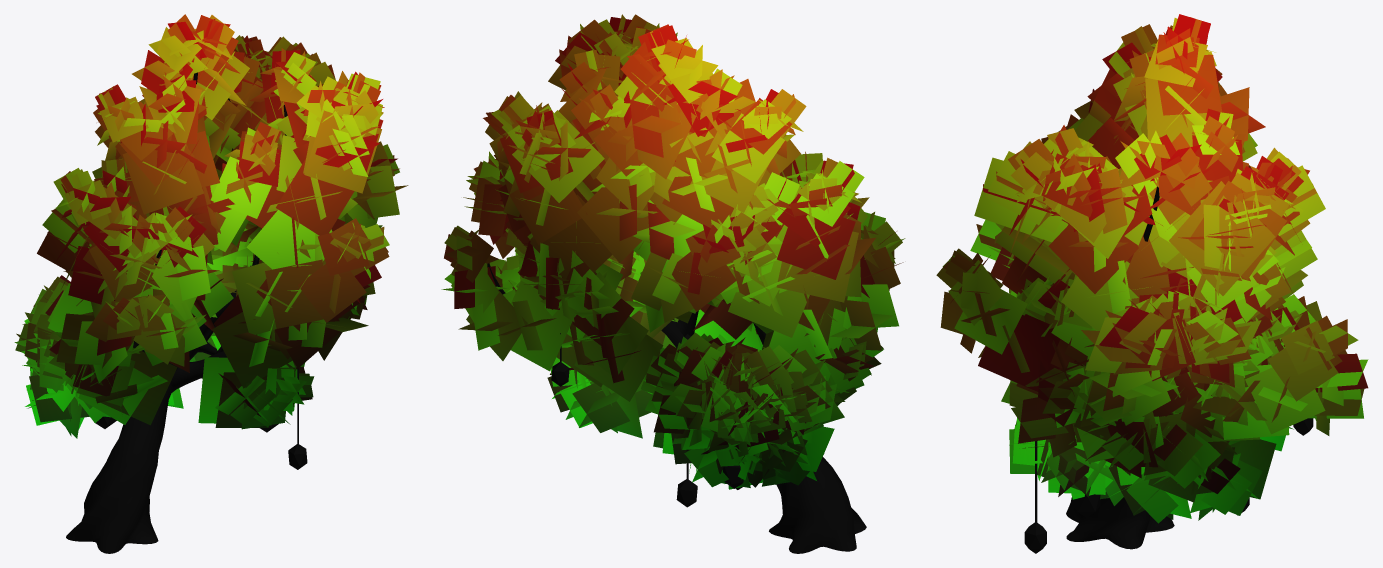
Rendered from env_tree_bg_qt_twisted_1.fbx.
3 renders of one model, left to right at view 1: azimuth 30°, elevation 25°; view 2: azimuth 150°, elevation 25°; view 3: azimuth 270°, elevation 25°, orthographic. The views are drawn at different scales.
Parts seen in each view (by area): view 1: env_tree_bg_qt_twisted_1; view 2: env_tree_bg_qt_twisted_1; view 3: env_tree_bg_qt_twisted_1.
Boxes of the visible parts, <box> form: env_tree_bg_qt_twisted_1: <box>14,14,408,553</box>; env_tree_bg_qt_twisted_1: <box>441,14,905,553</box>; env_tree_bg_qt_twisted_1: <box>936,14,1368,553</box>.
Bounding box in the file's own units: 13.52 × 16.73 × 11.55.
